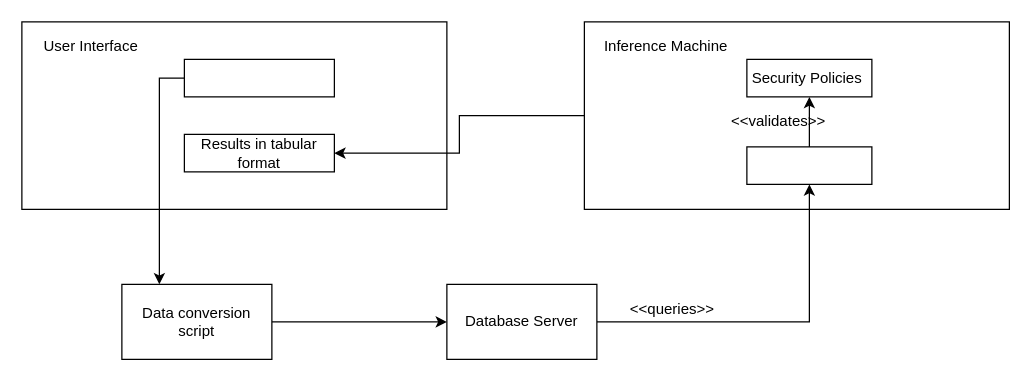
Image size: 1031x381. Some labels were removed from this diagram. Here are the shapes that lost their labels. From the top down, the box of each, then its label:
(183, 58, 334, 97): Input data
(746, 146, 872, 184): Algorithm
